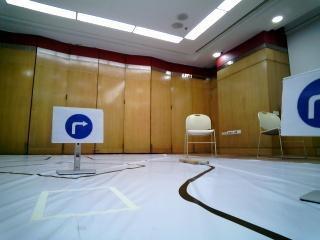right: (56, 108, 105, 146)
